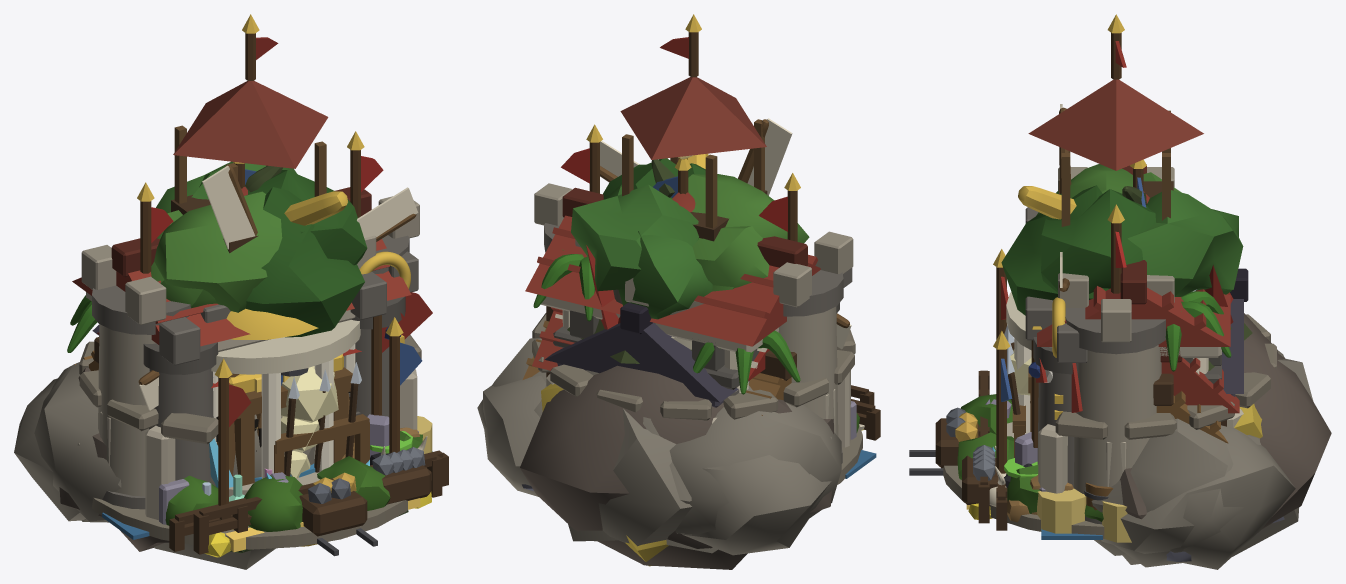
The model's file is mapobj.glb.
The picture shows the model from 3 angles, left to right: view 1: azimuth 30°, elevation 25°; view 2: azimuth 150°, elevation 25°; view 3: azimuth 270°, elevation 25°; orthographic projection. The views are drawn at different scales.
Visible parts, largest first — view 1: obj_tree, obj_mine, obj_gate_rot, obj_arena, obj_lookout, obj_prison, obj_temple, obj_shrine_know, obj_windmill, obj_shrine_att, obj_learning, obj_dwarf_treasury (+11 smaller); view 2: obj_dwarf_treasury, obj_tree, obj_dragon_hoard, obj_gate_rot, obj_mine, obj_learning, obj_lookout, obj_arena, obj_crypt, obj_oasis, obj_windmill, obj_prison (+7 smaller); view 3: obj_tree, obj_gate_rot, obj_mine, obj_lookout, obj_arena, obj_dwarf_treasury, obj_dragon_hoard, obj_learning, obj_stables, obj_prison, obj_shrine_know, obj_watermill (+12 smaller).
Part boxes in pixels (x1,y1,x2,y2): obj_tree: [151, 161, 367, 337]; obj_mine: [34, 312, 411, 569]; obj_gate_rot: [81, 131, 419, 509]; obj_arena: [79, 317, 422, 549]; obj_lookout: [171, 14, 354, 476]; obj_prison: [143, 251, 418, 482]; obj_temple: [211, 308, 360, 496]; obj_shrine_know: [165, 431, 422, 531]; obj_windmill: [138, 165, 418, 410]; obj_shrine_att: [274, 292, 432, 476]; obj_learning: [72, 187, 411, 351]; obj_dwarf_treasury: [14, 354, 420, 552]; obj_dwarf_treasury: [483, 376, 831, 555]; obj_tree: [571, 158, 809, 323]; obj_dragon_hoard: [520, 245, 864, 569]; obj_gate_rot: [534, 124, 853, 463]; obj_mine: [477, 338, 841, 534]; obj_learning: [525, 187, 820, 392]; obj_lookout: [620, 14, 767, 241]; obj_arena: [532, 313, 862, 484]; obj_crypt: [544, 302, 856, 439]; obj_oasis: [533, 249, 800, 394]; obj_windmill: [600, 118, 851, 349]; obj_prison: [553, 268, 852, 395]; obj_tree: [1001, 164, 1243, 315]; obj_gate_rot: [1058, 166, 1174, 524]; obj_mine: [909, 326, 1283, 567]; obj_lookout: [1028, 14, 1203, 226]; obj_arena: [941, 249, 1276, 538]; obj_dwarf_treasury: [966, 359, 1313, 569]; obj_dragon_hoard: [989, 265, 1331, 529]; obj_learning: [1037, 164, 1230, 373]; obj_stables: [978, 370, 1228, 542]; obj_prison: [1025, 207, 1221, 487]; obj_shrine_know: [957, 394, 1103, 521]; obj_watermill: [1041, 347, 1239, 539].
Bounding box in the file's own units: 0.938 × 1.35 × 0.9591.
